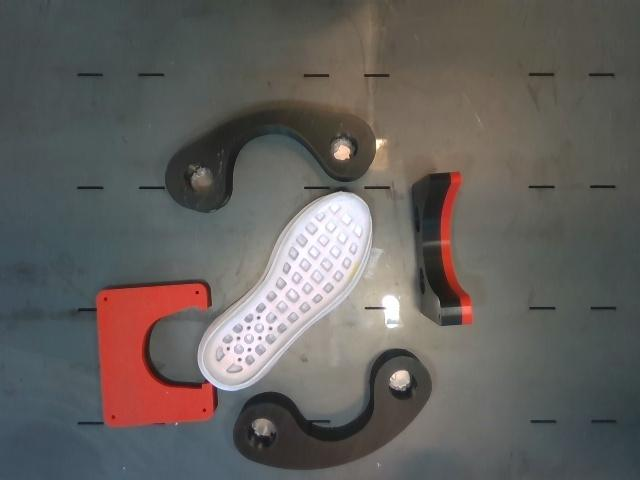shoes: (203, 194, 370, 386)
